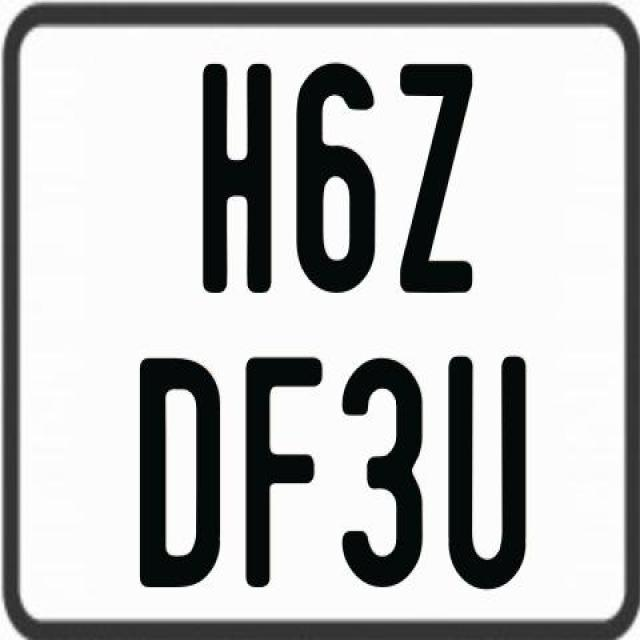3: (338, 357, 418, 590)
6: (293, 58, 372, 288)
D: (137, 358, 219, 596)
F: (245, 356, 324, 590)
H: (202, 59, 274, 291)
U: (446, 357, 524, 590)
Z: (396, 64, 472, 293)
